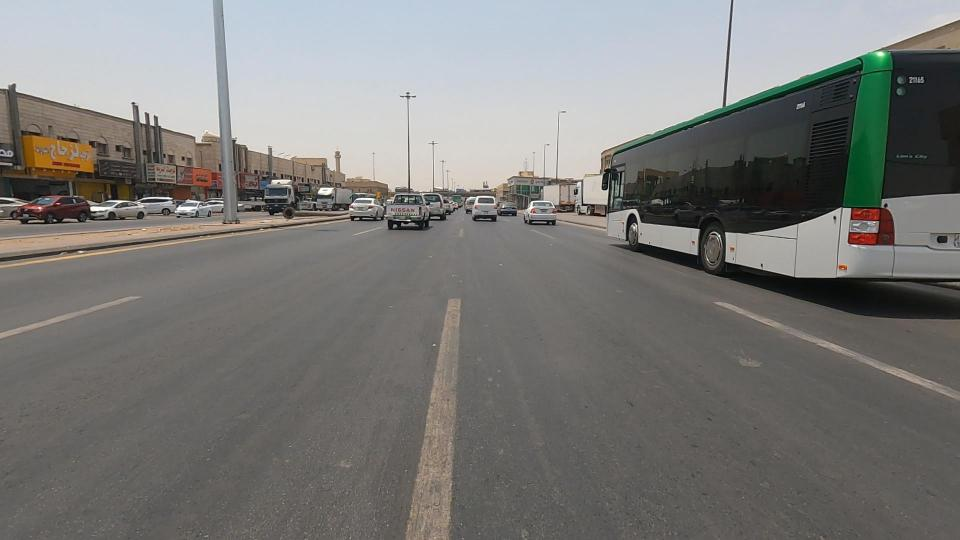BAD_BILLBOARD: (74, 137, 166, 191)
